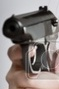pistol: (1, 2, 59, 83)
